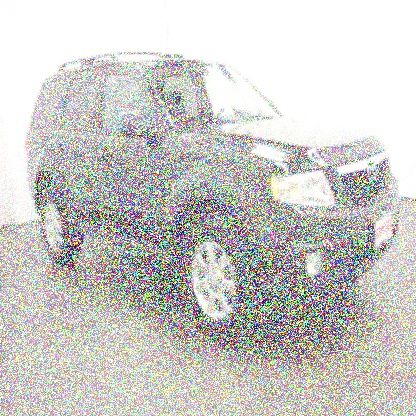Vehicle: (20, 48, 402, 342)
